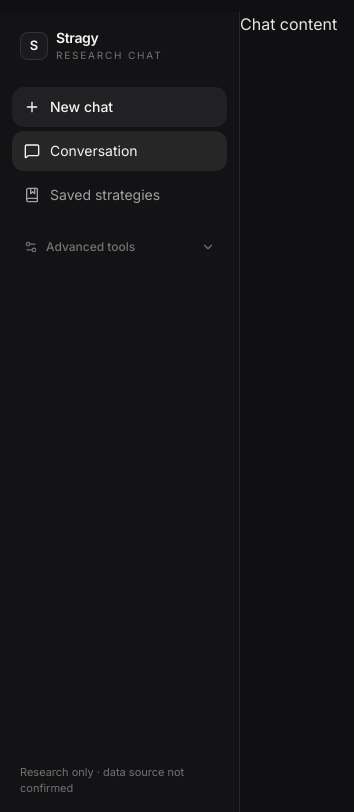
Scenario: calm app shell › defaults to a chat-first surface with advanced tools hidden
expect the text "Chat content" is shown: met, box [240, 14, 337, 34]
expect the button "Conversation" is shown: met, box [12, 131, 227, 171]
Click the button "Advanced tools" at (120,247), box [12, 231, 227, 263]
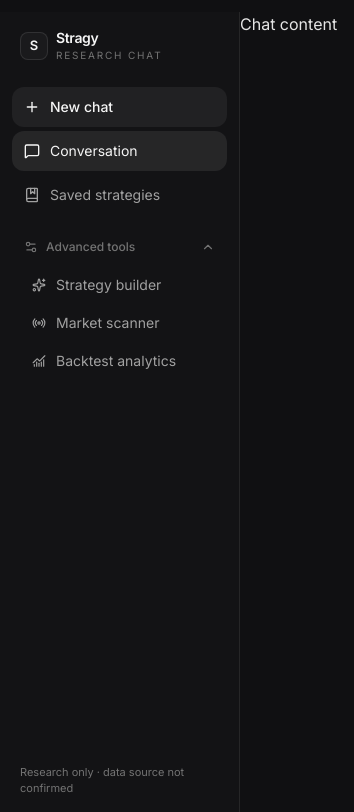
expect the button "Strategy builder" is shown: met, box [20, 267, 227, 303]
expect the button "Market scanner" is shown: met, box [20, 305, 227, 341]
expect the button "Backtest analytics" is shown: met, box [20, 343, 227, 379]
